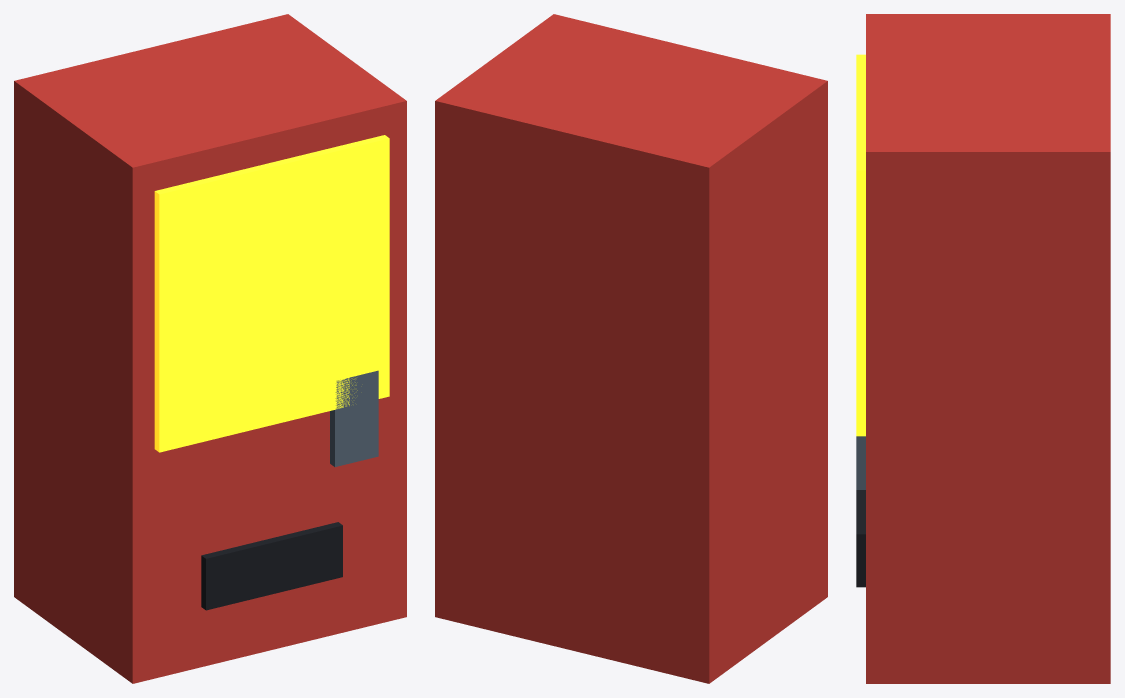
The model's file is city_vending_machine.glb.
3 views of the same model, side by side, from view 1: azimuth 30°, elevation 25°; view 2: azimuth 150°, elevation 25°; view 3: azimuth 270°, elevation 25° (orthographic). The views are drawn at different scales.
Parts seen in each view (by area): view 1: city_vending_machine_red, city_vending_machine_glowAmber, city_vending_machine_black, city_vending_machine_steel; view 2: city_vending_machine_red; view 3: city_vending_machine_red, city_vending_machine_glowAmber, city_vending_machine_black, city_vending_machine_steel.
Part boxes in pixels (box(x1,y1,x2,y2)): city_vending_machine_red: box(14, 14, 406, 683); city_vending_machine_glowAmber: box(154, 135, 389, 452); city_vending_machine_black: box(201, 522, 342, 610); city_vending_machine_steel: box(330, 370, 378, 466); city_vending_machine_red: box(435, 14, 827, 683); city_vending_machine_red: box(866, 14, 1110, 683); city_vending_machine_glowAmber: box(856, 54, 865, 436); city_vending_machine_black: box(856, 490, 865, 587); city_vending_machine_steel: box(856, 436, 865, 489).
Size of the model in its own units: 1 by 1.8 by 0.78.
